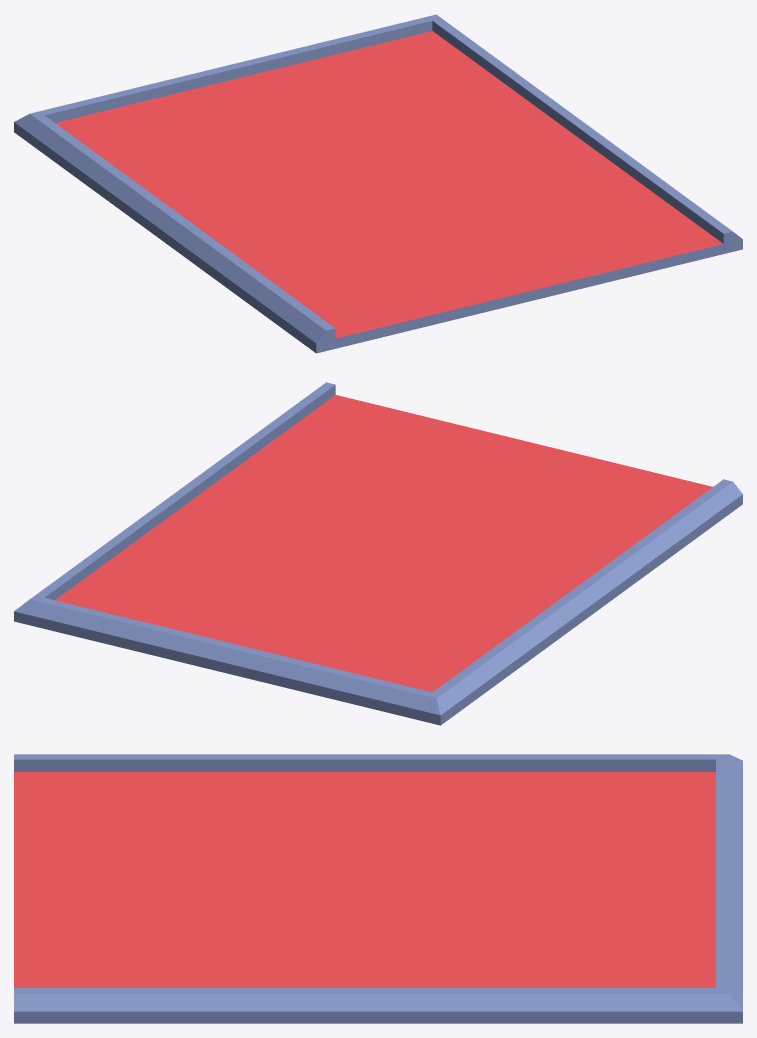
The model's file is tile-end.glb.
3 views of the same model, one above another, from view 1: azimuth 30°, elevation 25°; view 2: azimuth 150°, elevation 25°; view 3: azimuth 270°, elevation 25° (orthographic). The views are drawn at different scales.
Parts seen in each view (by area): view 1: tile-end; view 2: tile-end; view 3: tile-end.
Part boxes in pixels (x1,y1,x2,y2): tile-end: [14, 14, 742, 353]; tile-end: [14, 382, 742, 725]; tile-end: [14, 754, 742, 1023].
Bounding box in the file's own units: 11 × 0.5 × 13.5.
